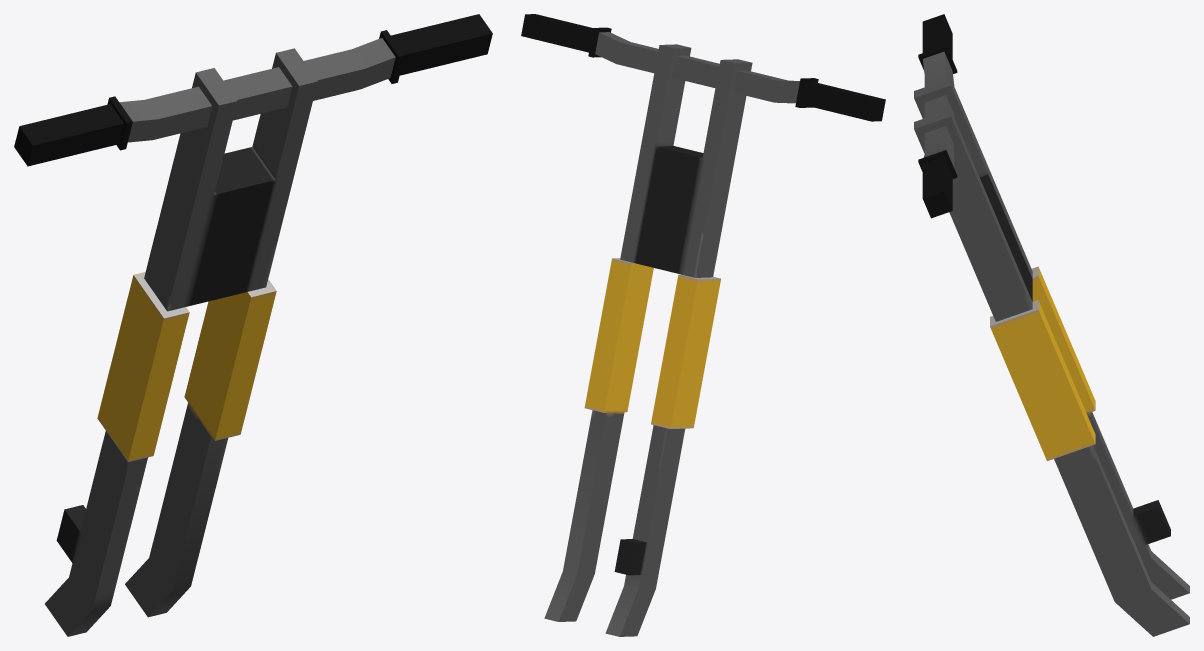
Rendered from Bike Handle.fbx.
The picture shows the model from 3 angles, left to right: view 1: azimuth 30°, elevation 25°; view 2: azimuth 150°, elevation 25°; view 3: azimuth 270°, elevation 25°; orthographic projection. The views are drawn at different scales.
Parts seen in each view (by area): view 1: Mountain Bike Handle; view 2: Mountain Bike Handle; view 3: Mountain Bike Handle.
Boxes of the visible parts, x1,y1,x2,y2 form: Mountain Bike Handle: (14,14,492,636); Mountain Bike Handle: (521,14,885,636); Mountain Bike Handle: (914,14,1189,636).
Bounding box in the file's own units: 97.53 × 133 × 64.06.
